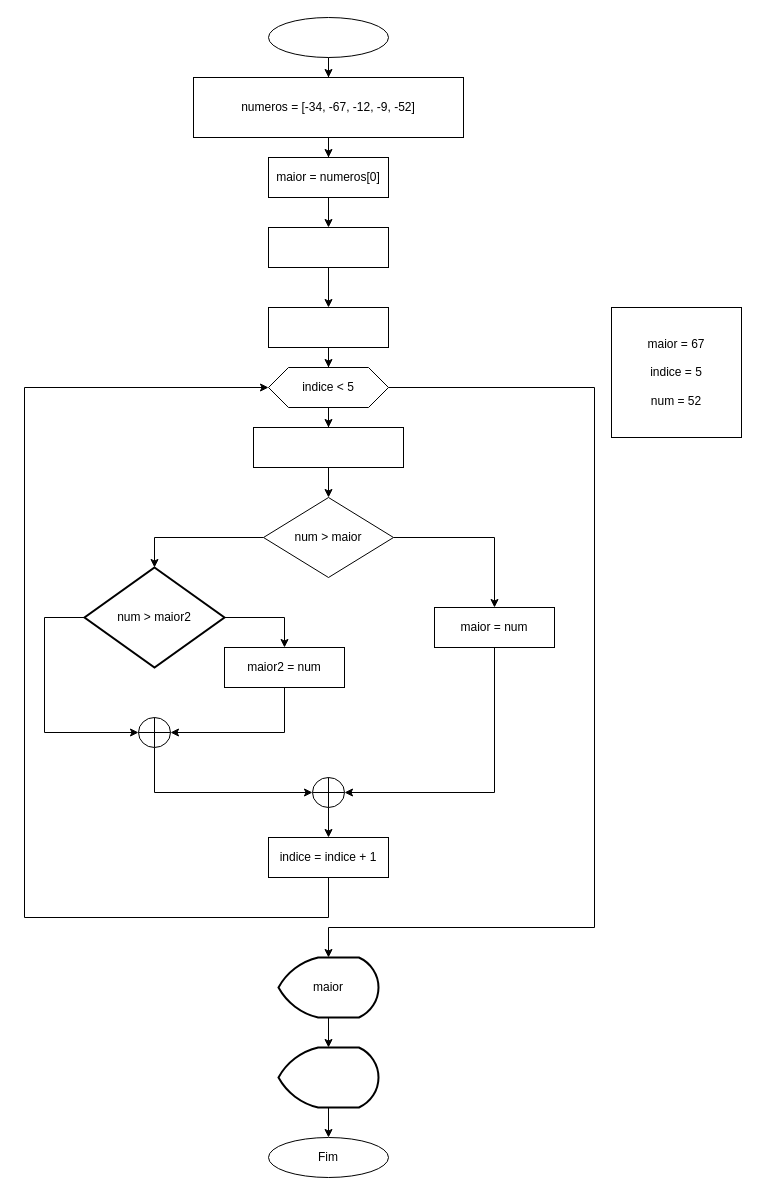
Some shapes in this 759 by 1195 pixel diagram are drawn without their labels. The shapes that lost their labels are listed below. From the top down, each one's centre as x and y in pixels, then its label:
At (328,37): "Inicio".
At (328,247): "maior2 = numeros[0]".
At (328,327): "indice = 0".
At (328,447): "num = numeros[indice]".
At (328,1077): "maior2".
